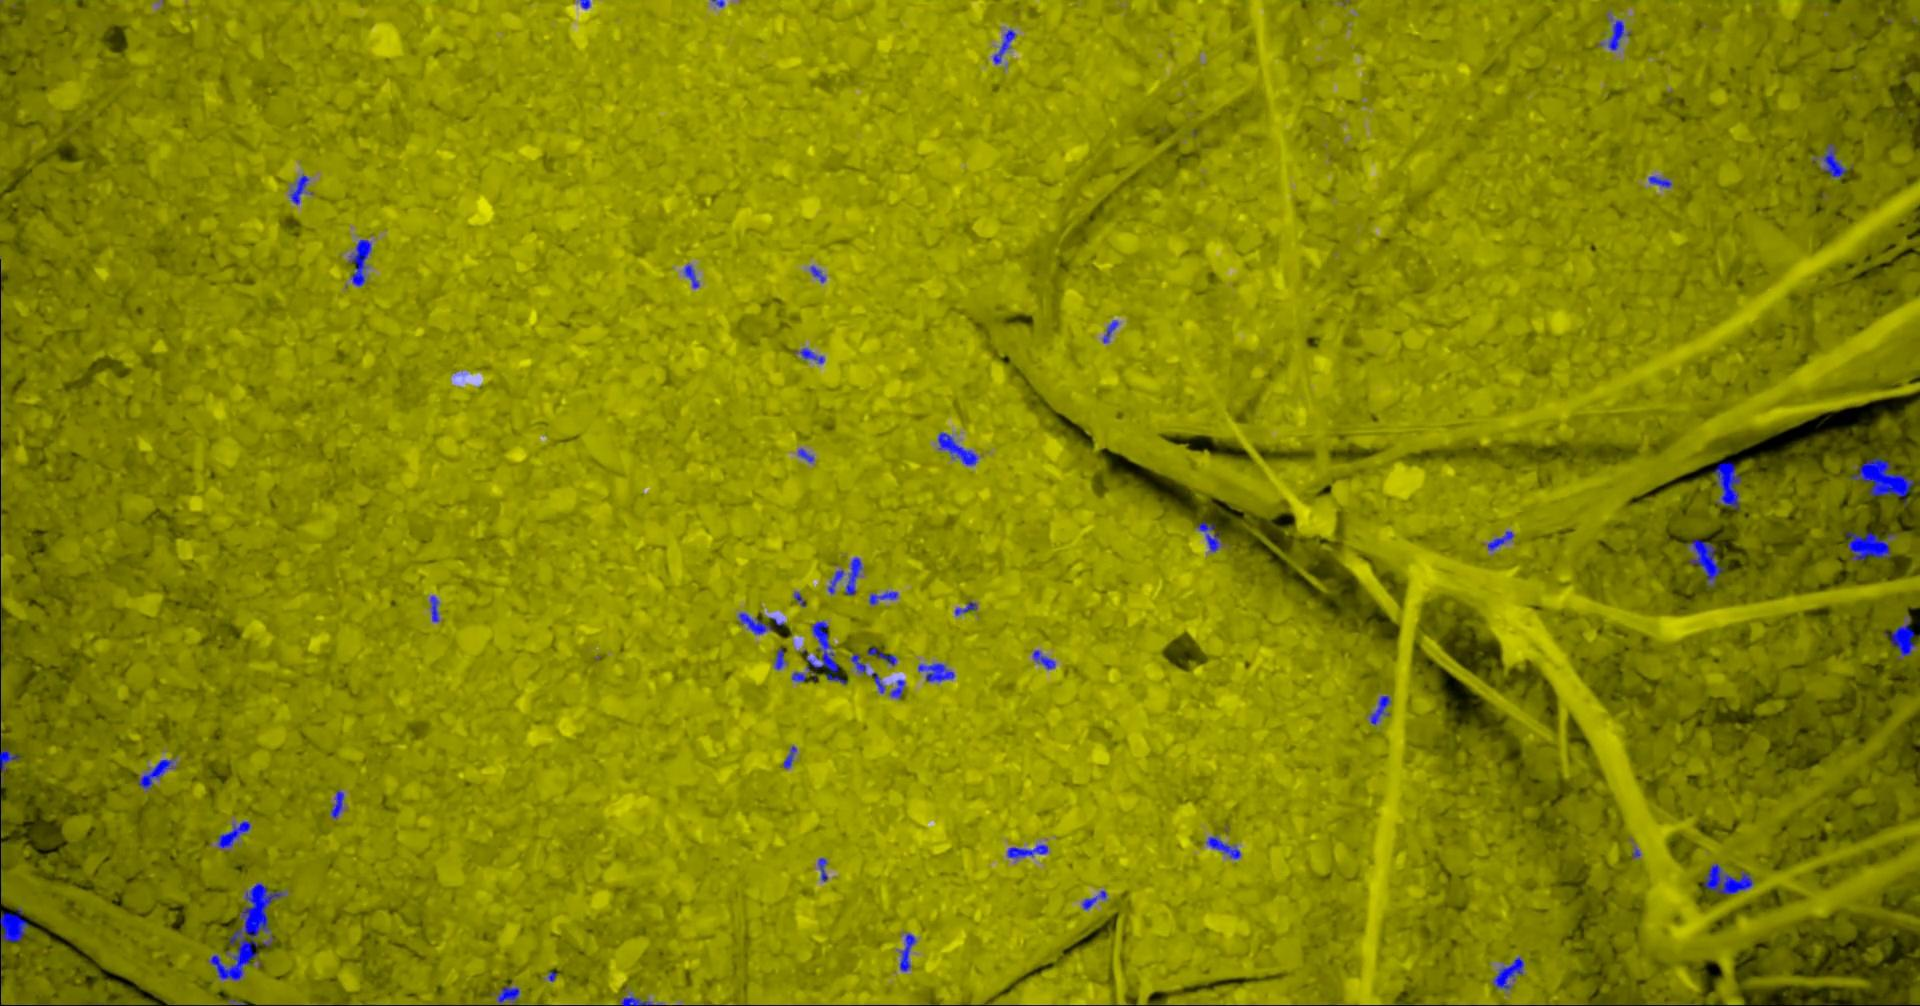ant: (791, 620, 846, 683), (0, 907, 28, 988), (1685, 539, 1723, 586), (1703, 862, 1752, 894), (1845, 531, 1895, 560), (937, 431, 977, 465), (1713, 461, 1741, 509), (1884, 617, 1915, 659), (0, 729, 20, 786), (348, 239, 371, 286), (1492, 956, 1523, 989), (137, 760, 171, 788), (217, 821, 250, 848), (1822, 144, 1848, 177), (992, 29, 1015, 64), (1205, 835, 1239, 857), (1196, 521, 1222, 551), (738, 612, 773, 634), (1608, 19, 1630, 50), (844, 558, 862, 594), (917, 663, 954, 681), (1369, 695, 1390, 724), (288, 174, 309, 205), (1007, 843, 1048, 859), (899, 934, 916, 970), (867, 647, 897, 666), (792, 347, 824, 363), (1487, 530, 1512, 550), (1081, 890, 1106, 909), (1032, 649, 1055, 669), (497, 984, 519, 1005), (869, 589, 897, 605), (827, 569, 843, 594), (620, 995, 659, 1005), (329, 790, 343, 818), (683, 264, 698, 288), (1102, 320, 1117, 343), (850, 653, 866, 673), (782, 746, 796, 768), (871, 672, 885, 694), (954, 602, 977, 615), (889, 680, 904, 699), (809, 265, 825, 282), (1648, 175, 1671, 187), (429, 594, 438, 622), (773, 648, 785, 669), (817, 857, 827, 882), (797, 448, 813, 462)
